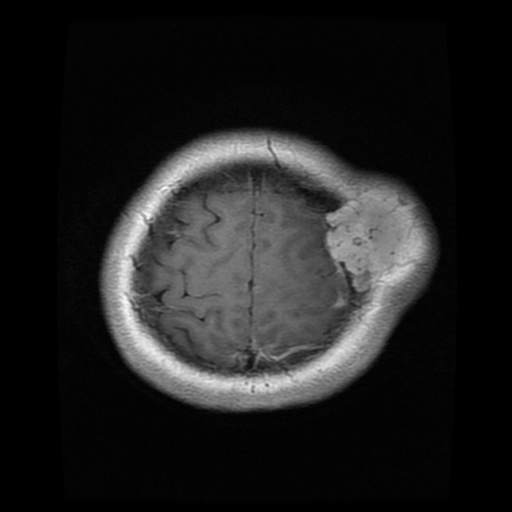meningioma: (324, 199, 408, 289)
